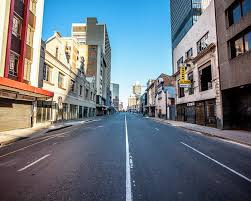strada: (60, 110, 222, 200)
